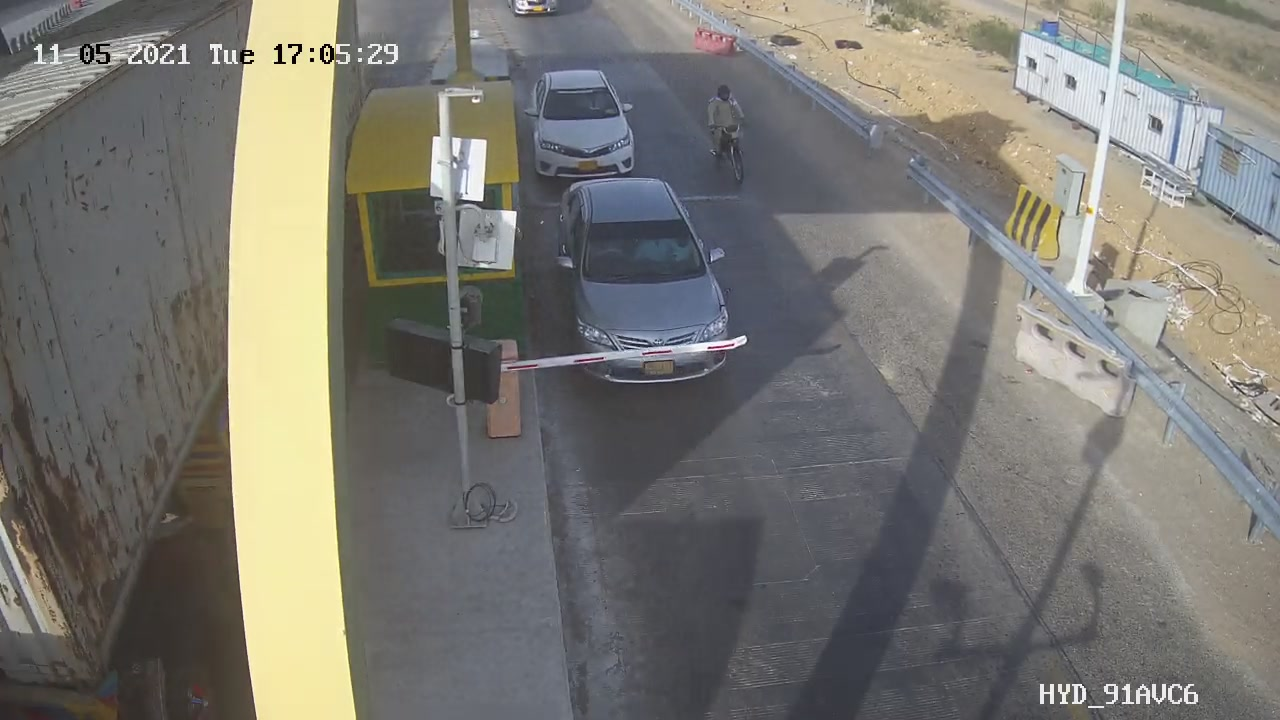F1: (535, 170, 764, 399), (513, 61, 653, 195)
